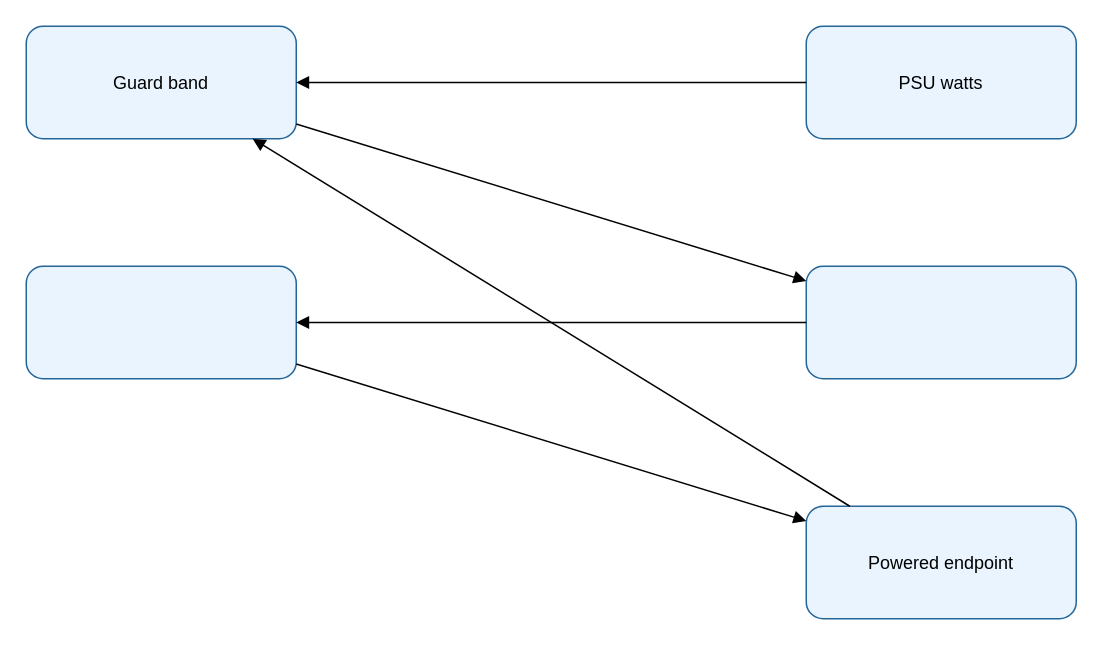
The diagram is 1103 pixels wide and 645 high, and some of its shapes have lost their labels. The shapes that lost their labels are listed below. From the top down, each one's box as (x1, y1, x2, y2) in pixels, then its label:
(25, 265, 296, 379): Per-port PoE class
(805, 265, 1076, 379): Priority allocator
